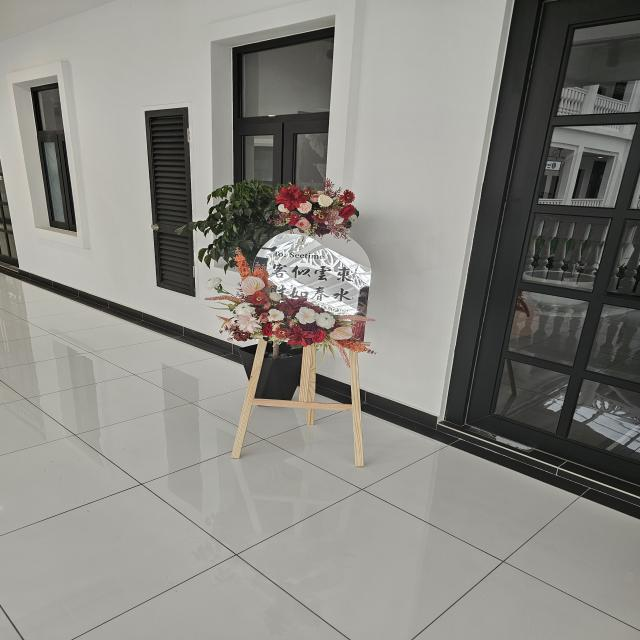door: (453, 0, 639, 493)
footpath: (0, 484, 639, 638), (0, 272, 213, 481)
obstacle: (214, 185, 383, 468)
